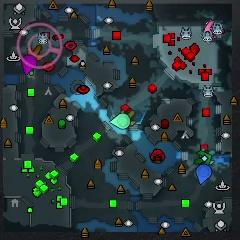Other: (18, 23, 62, 68)
p1: (196, 164, 213, 184)
p2: (110, 114, 130, 129)
p3: (20, 55, 38, 76)
x1: (204, 20, 215, 38)
x2: (120, 111, 136, 125)
x4: (194, 150, 212, 166)
x5: (26, 44, 44, 62)
